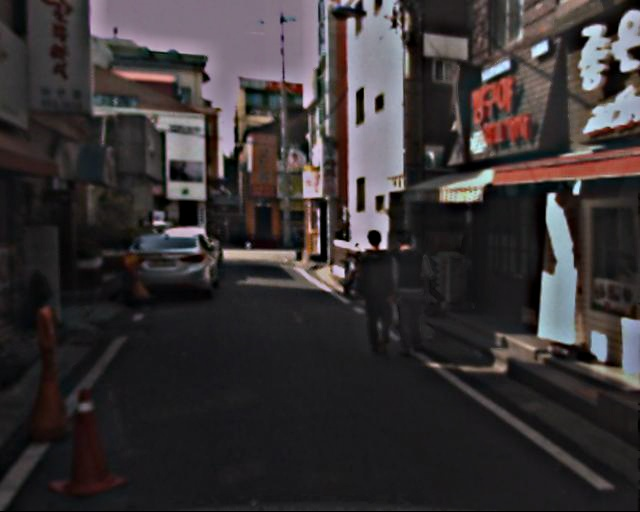person: (352, 227, 403, 352), (384, 231, 435, 355)
